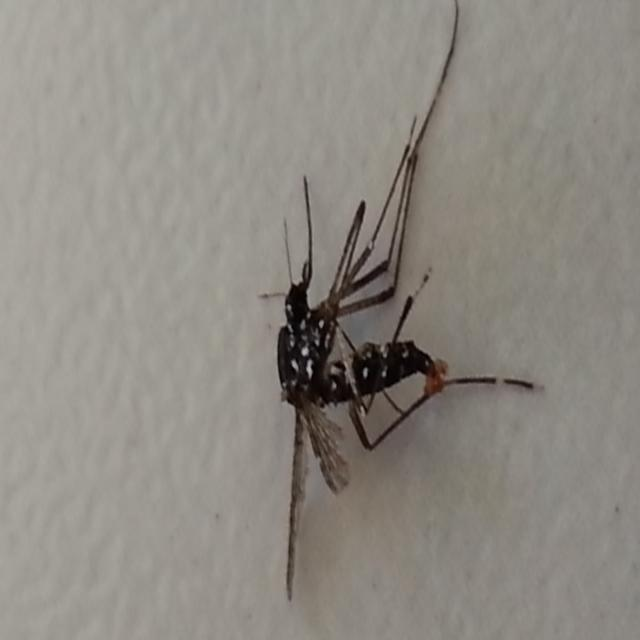albopictus: (237, 90, 529, 578)
